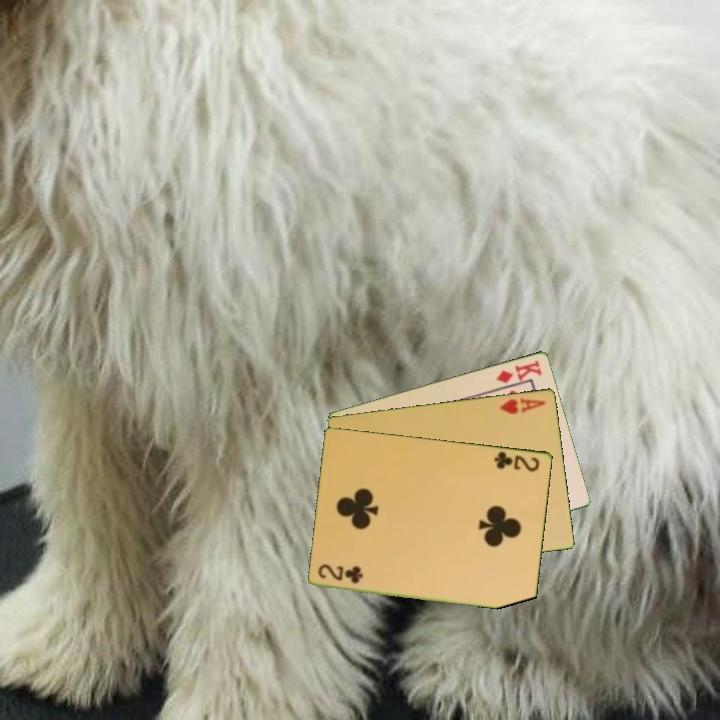2c: (491, 447, 543, 474), (315, 562, 366, 586)
Ah: (496, 394, 549, 417)
Kd: (493, 356, 545, 386)
